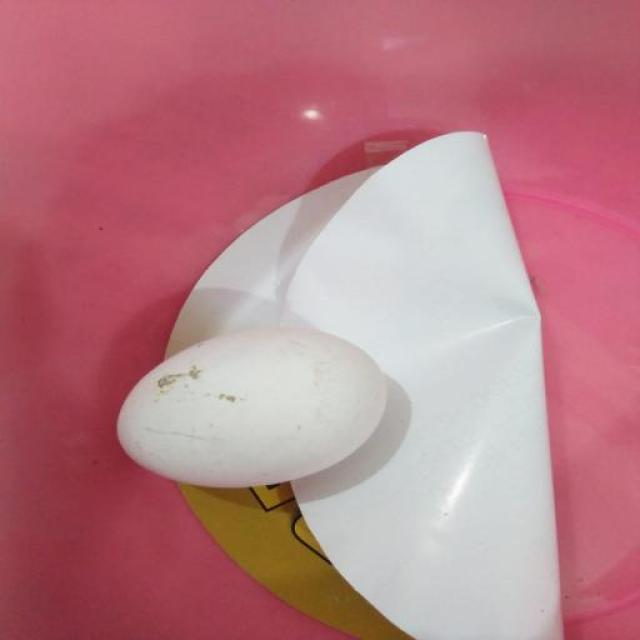telur: (114, 325, 387, 490)
